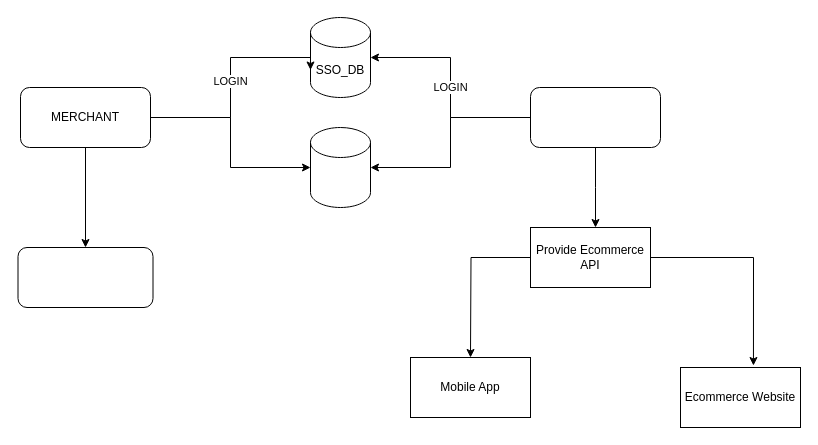
The diagram is 818 pixels wide and 445 high, and some of its shapes have lost their labels. The shapes that lost their labels are listed below. From the top down, each one's centre as x and y in pixels, then its label:
At [595,117]: "ADMIN PANEL".
At [340,167]: "APP_DB".
At [85,277]: "Provide Merchant API".
